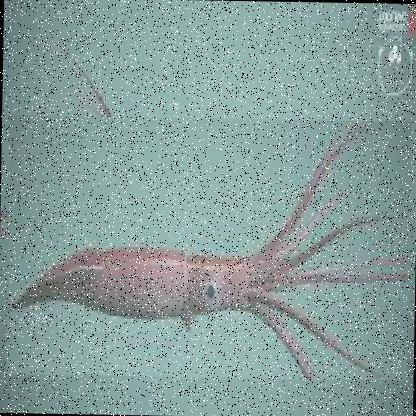colossal_squid: (6, 113, 412, 380)
